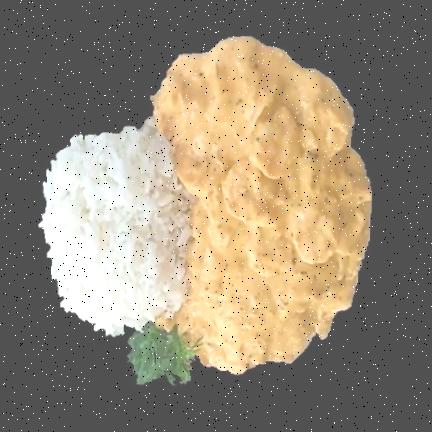chicken: (153, 37, 370, 372)
rice: (38, 117, 190, 335)
